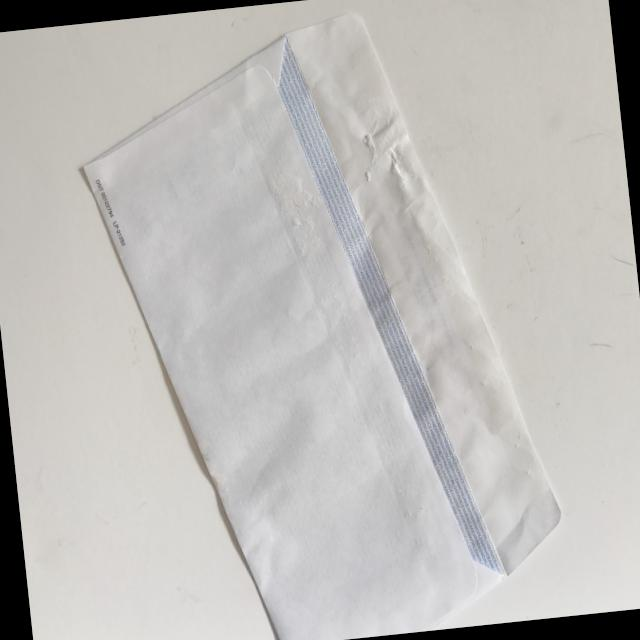Paper: (57, 0, 579, 640)
